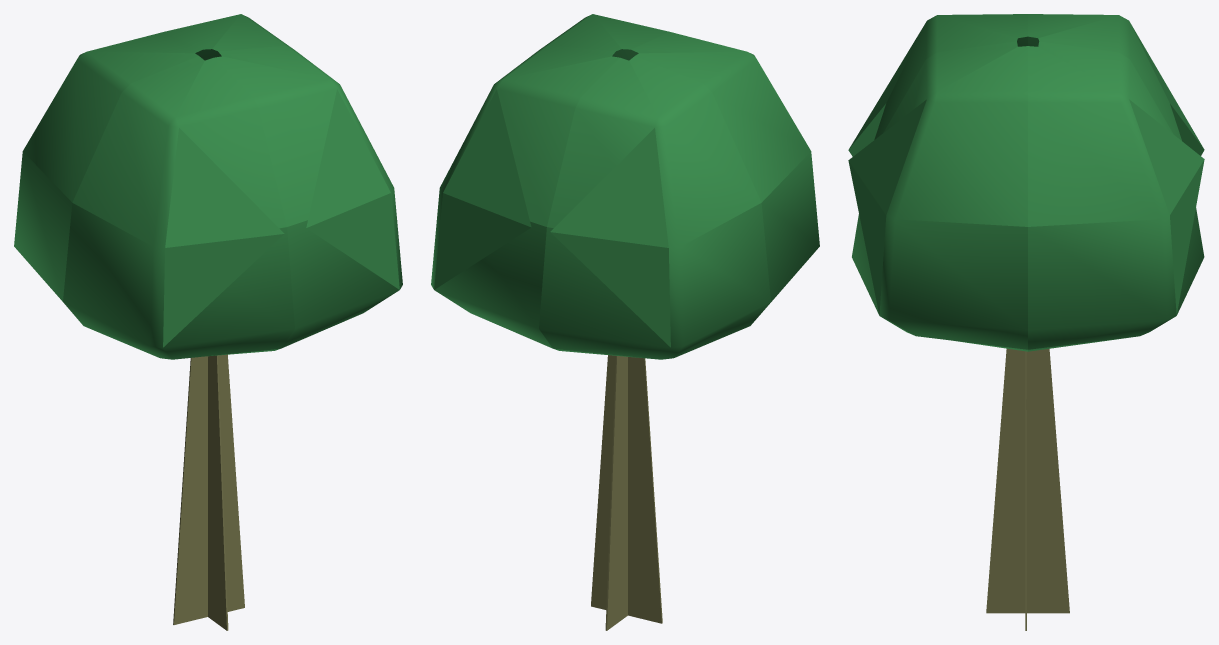
Rendered from TreeSquare_Medium.fbx.
3 views of the same model, side by side, from view 1: azimuth 30°, elevation 25°; view 2: azimuth 150°, elevation 25°; view 3: azimuth 270°, elevation 25° (orthographic).
Visible parts, largest first — view 1: TREE_MEDIUM_SQUARE; view 2: TREE_MEDIUM_SQUARE; view 3: TREE_MEDIUM_SQUARE.
Boxes of the visible parts, left/top/right/bottom form: TREE_MEDIUM_SQUARE: left=14, top=14, right=402, bottom=630; TREE_MEDIUM_SQUARE: left=431, top=14, right=819, bottom=630; TREE_MEDIUM_SQUARE: left=848, top=14, right=1204, bottom=630.
Bounding box in the file's own units: 557 × 1027 × 580.
